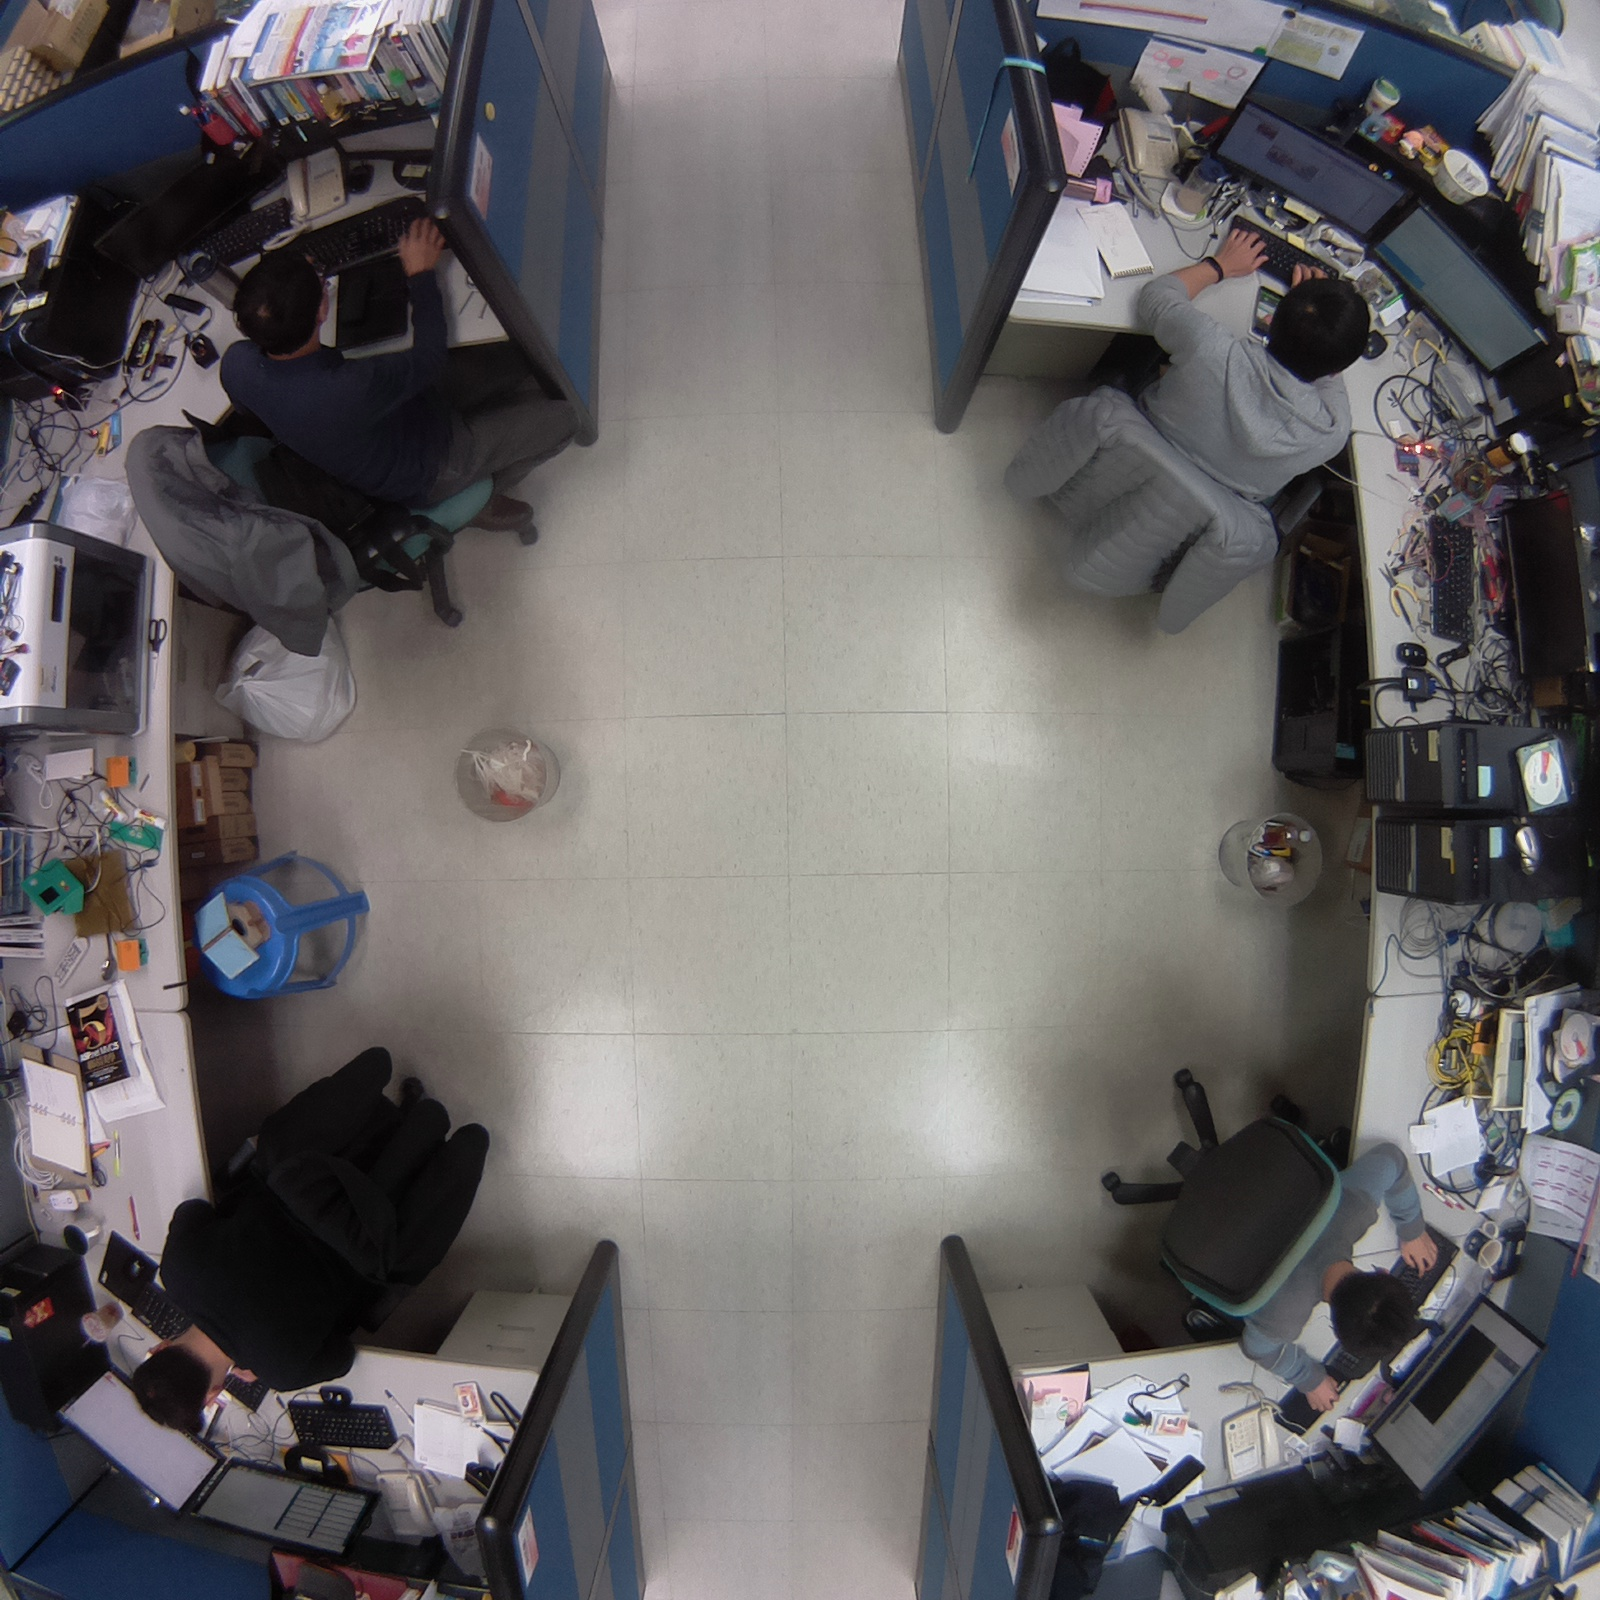head: (223, 246, 342, 363), (1257, 276, 1376, 387), (123, 1327, 232, 1440), (1323, 1263, 1427, 1372)
sitting: (106, 183, 588, 673), (981, 214, 1401, 642), (124, 1034, 512, 1450), (1083, 1058, 1445, 1414)
